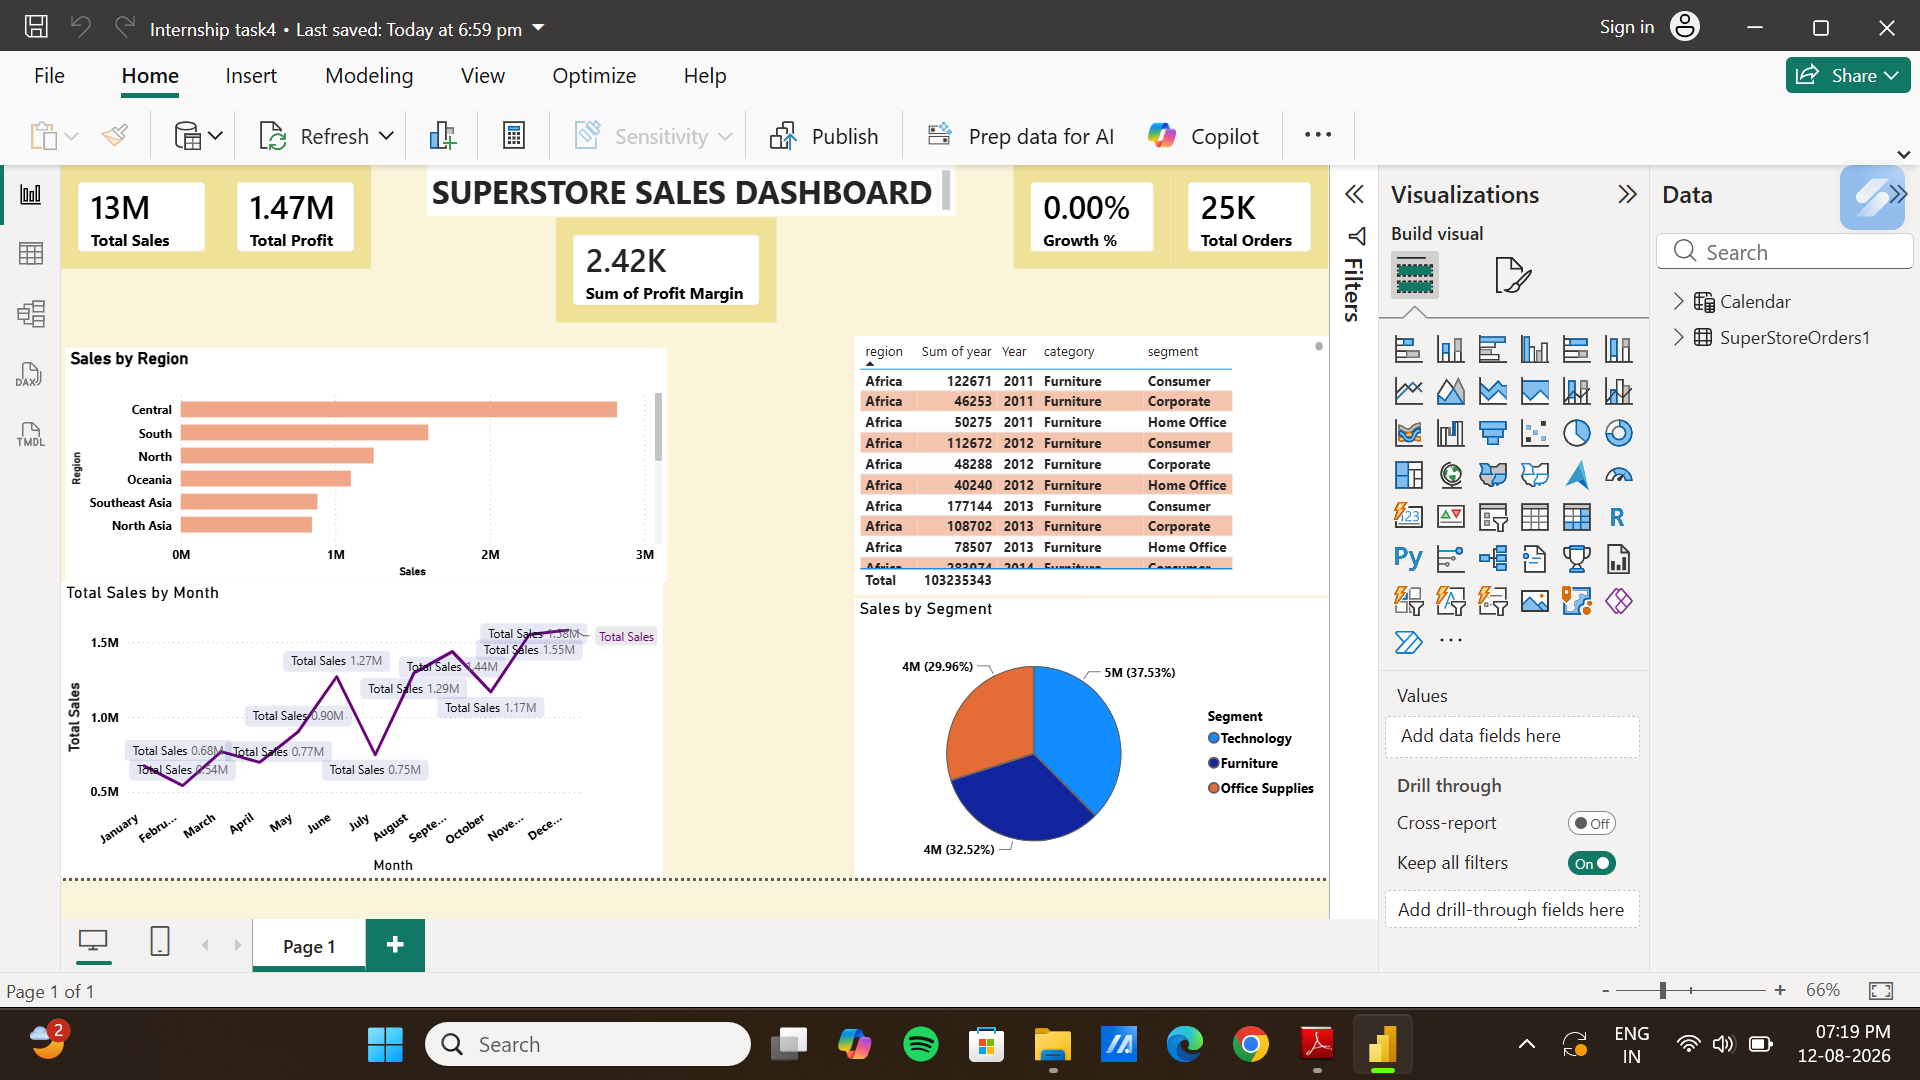

Layout of this report page (visuals, bound fields, positions):
{"tool":"powerbi","page":{"name":"Page 1","canvas":[1280,720],"ordinal":0},"visuals":[{"type":"cardVisual","fields":{"Data":["SuperStoreOrders1.Total Sales"]},"box":[0,0,162,104.5],"z":0},{"type":"cardVisual","fields":{"Data":["SuperStoreOrders1.Total Profit"]},"box":[160.5,0,152.9,104.5],"z":1000},{"type":"cardVisual","fields":{"Data":["Sum(SuperStoreOrders1. Profit Margin)"]},"box":[499.7,53,222.6,106],"z":2000},{"type":"lineChart","fields":{"Category":["Calendar.Date.Variation.Date Hierarchy.Month","Calendar.Date.Variation.Date Hierarchy.Day"],"Y":["SuperStoreOrders1.Total Sales"]},"box":[0,420.9,607.2,298.3],"z":3000},{"type":"donutChart","fields":{"Category":["SuperStoreOrders1.category"],"Y":["SuperStoreOrders1.Total Sales"]},"box":[801,437.6,478.5,281.6],"z":4000},{"type":"clusteredBarChart","fields":{"Category":["SuperStoreOrders1.region"],"Y":["SuperStoreOrders1.Total Sales"]},"box":[4.5,184.7,607.2,236.2],"z":5000},{"type":"cardVisual","fields":{"Data":["Calendar.Growth %"]},"box":[961.5,0,159,104.5],"z":6000},{"type":"cardVisual","fields":{"Data":["SuperStoreOrders1.Total Orders"]},"box":[1120.5,0,159,104.5],"z":7000},{"type":"textbox","box":[369.5,0,533,51.5],"z":7002},{"type":"tableEx","fields":{"Values":["SuperStoreOrders1.region","Sum(SuperStoreOrders1.year)","Calendar.Date.Variation.Date Hierarchy.Year","SuperStoreOrders1.category","SuperStoreOrders1.segment"]},"box":[801,172.6,478.5,260.4],"z":7003}]}

Visuals, with their boxes on the page's 1280x720 design canvas (x1, y1, x2, y2). These are canvas units, not pixel positions in the 1920x1080 screenshot, which may show the page scaled, cropped or inside an application window:
cardVisual - SuperStoreOrders1.Total Sales: box(0, 0, 162, 104)
cardVisual - SuperStoreOrders1.Total Profit: box(160, 0, 313, 104)
cardVisual - Sum(SuperStoreOrders1. Profit Margin): box(500, 53, 722, 159)
lineChart - Calendar.Date.Variation.Date Hierarchy.Month x Calendar.Date.Variation.Date Hierarchy.Day: box(0, 421, 607, 719)
donutChart - SuperStoreOrders1.category x SuperStoreOrders1.Total Sales: box(801, 438, 1280, 719)
clusteredBarChart - SuperStoreOrders1.region x SuperStoreOrders1.Total Sales: box(4, 185, 612, 421)
cardVisual - Calendar.Growth %: box(962, 0, 1120, 104)
cardVisual - SuperStoreOrders1.Total Orders: box(1120, 0, 1280, 104)
textbox: box(370, 0, 902, 52)
tableEx - SuperStoreOrders1.region x Sum(SuperStoreOrders1.year): box(801, 173, 1280, 433)
